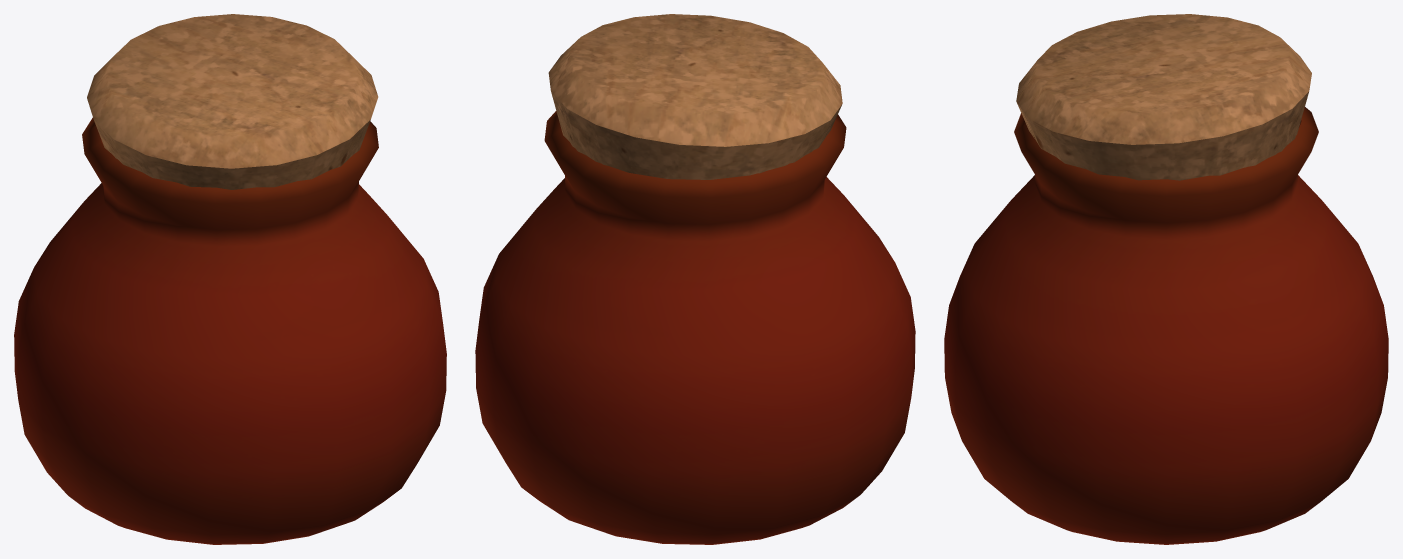
Rendered from SM_Potion_Props_Bottle_Big_01_A.fbx.
3 renders of one model, left to right at view 1: azimuth 30°, elevation 25°; view 2: azimuth 150°, elevation 25°; view 3: azimuth 270°, elevation 25°, orthographic. The views are drawn at different scales.
Parts seen in each view (by area): view 1: SM_Potion_Props_Bottle_Big_01_A_LOD0; view 2: SM_Potion_Props_Bottle_Big_01_A_LOD0; view 3: SM_Potion_Props_Bottle_Big_01_A_LOD0.
Boxes of the visible parts, box(x1,y1,x2,y2) form: SM_Potion_Props_Bottle_Big_01_A_LOD0: box(14, 14, 446, 544); SM_Potion_Props_Bottle_Big_01_A_LOD0: box(475, 14, 915, 544); SM_Potion_Props_Bottle_Big_01_A_LOD0: box(944, 14, 1388, 544).
Size of what is drawn, in the model's own units: 23.16 by 24.28 by 23.16.
